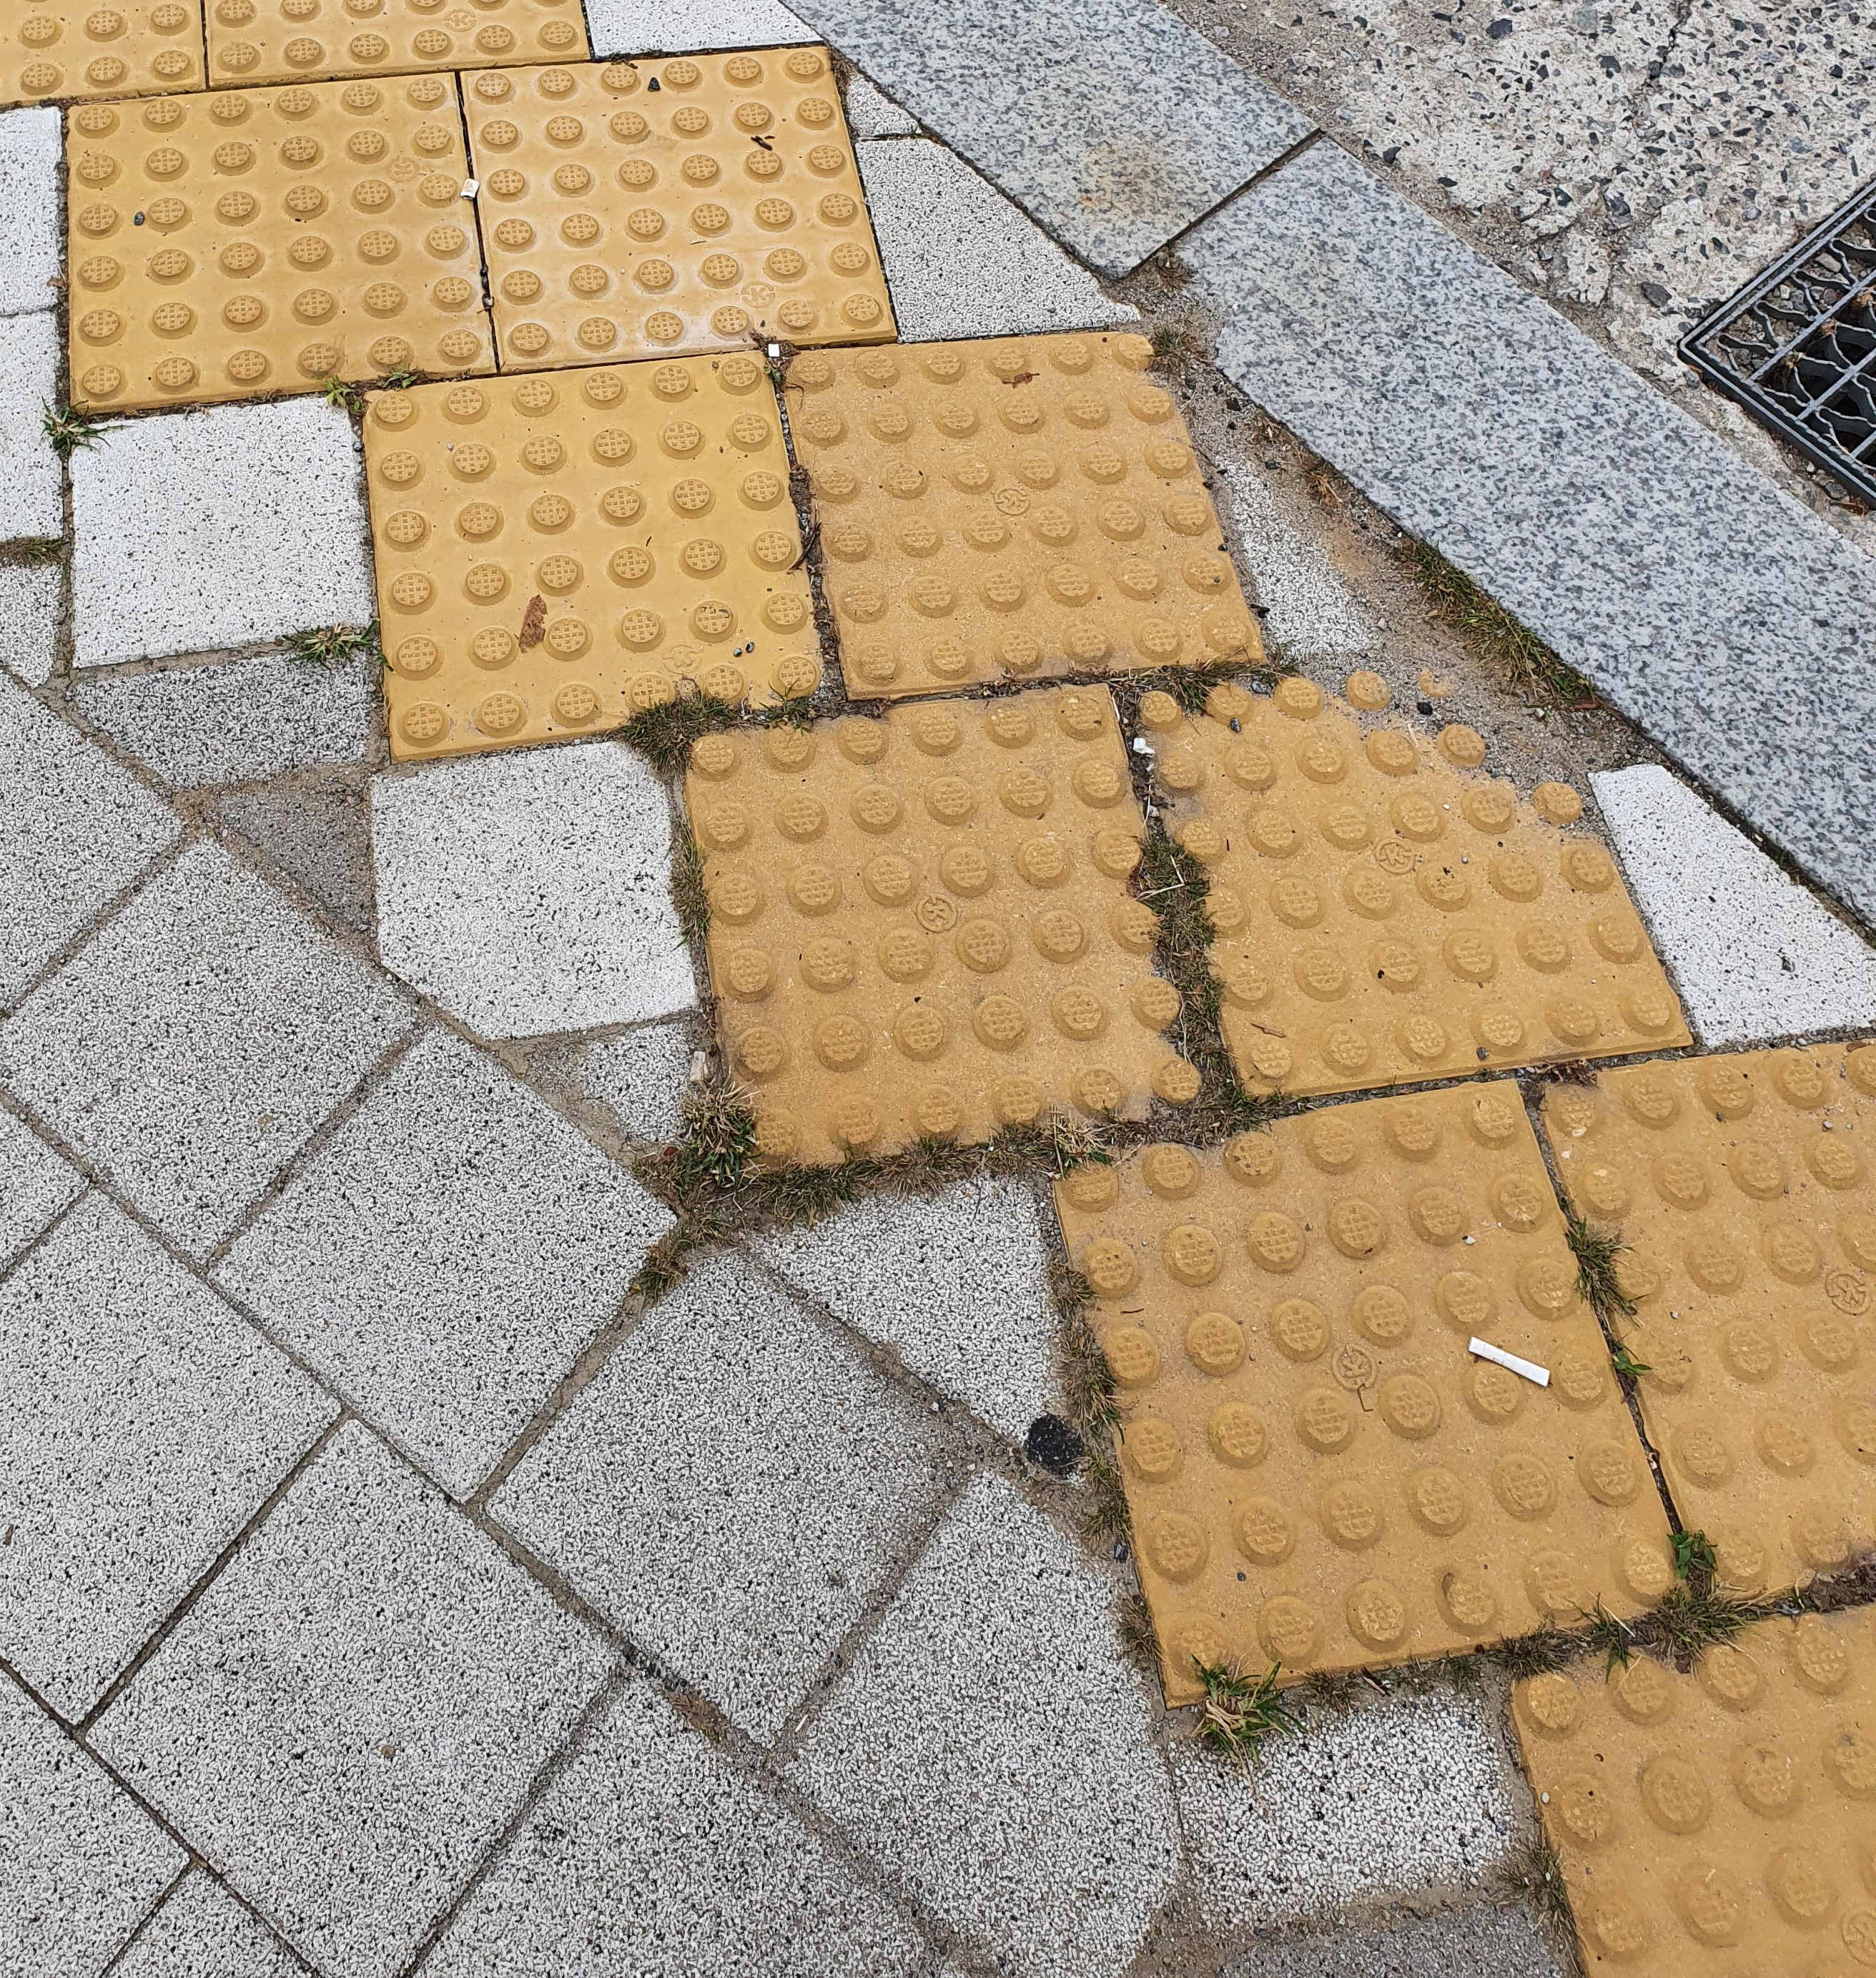warningBlock: (986, 1049, 1716, 1648), (621, 763, 1229, 1125), (1150, 659, 1638, 1088), (335, 384, 880, 755), (480, 67, 994, 379), (769, 319, 1215, 672), (1585, 1054, 1876, 1573), (30, 122, 531, 363)
